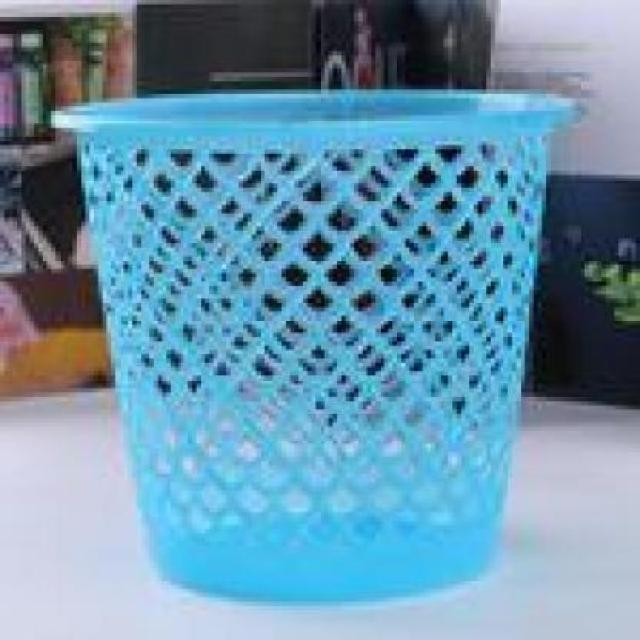dustbin: (46, 82, 588, 610)
